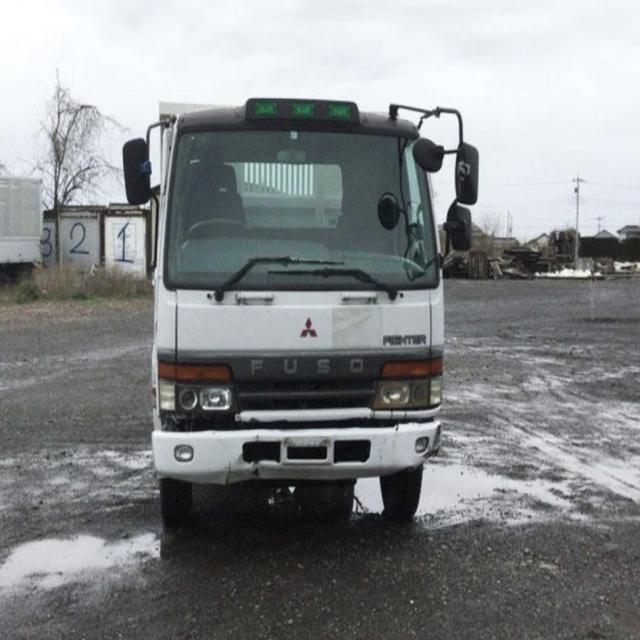truck: (120, 94, 478, 526)
